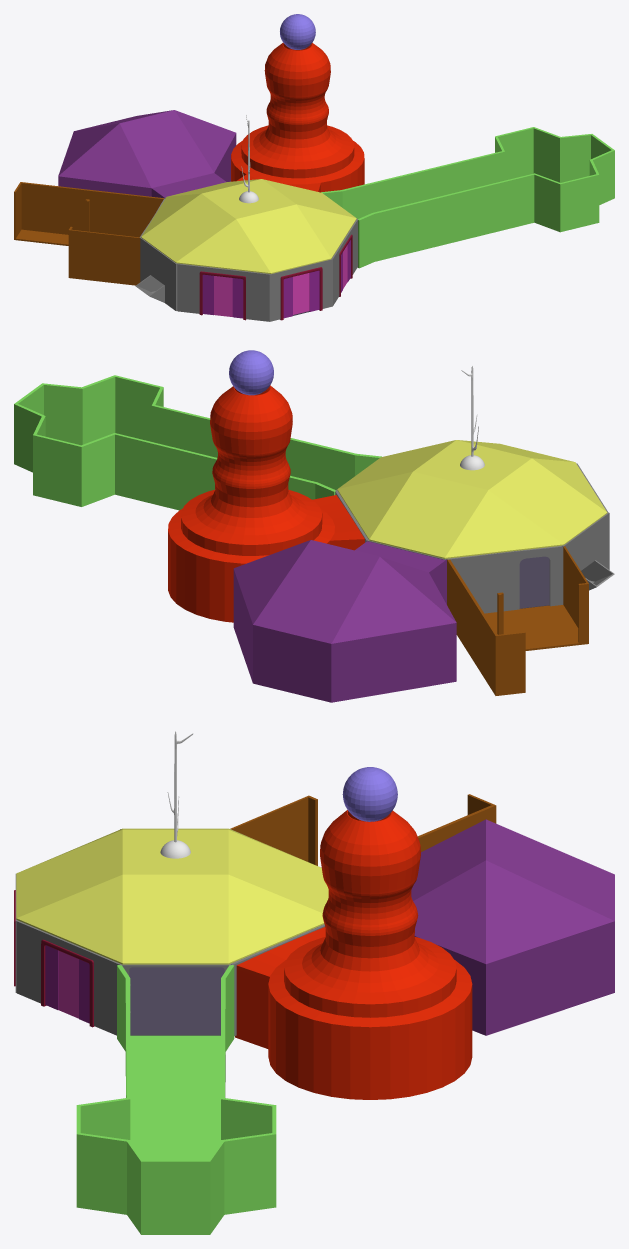
Rendered from hub.fbx.
3 renders of one model, top to bottom at view 1: azimuth 30°, elevation 25°; view 2: azimuth 150°, elevation 25°; view 3: azimuth 270°, elevation 25°, orthographic. The views are drawn at different scales.
Visible parts, largest first — view 1: engineering, ceiling, reactor, command, crafting, north west.002, wall north.003, wall north.001, reactor top, north west.003, door west left outer.005, door west right outer.005 (+3 smaller); view 2: command, engineering, ceiling, reactor, crafting, north west.001, wall north.003, reactor top, floor; view 3: reactor, ceiling, engineering, command, floor, crafting, north west.003, reactor top, frame west.005, door west left outer.006.
Part boxes in pixels (box(x1,y1,x2,y2)): engineering: box(321, 127, 614, 268); ceiling: box(141, 179, 356, 273); reactor: box(231, 43, 364, 192); command: box(58, 110, 236, 198); crafting: box(14, 182, 164, 285); north west.002: box(177, 263, 269, 321); wall north.003: box(135, 237, 177, 310); wall north.001: box(269, 258, 332, 321); reactor top: box(280, 14, 315, 49); north west.003: box(332, 219, 357, 305); door west left outer.005: box(202, 274, 213, 315); door west right outer.005: box(232, 278, 243, 318); command: box(233, 540, 456, 702); engineering: box(14, 375, 381, 510); ceiling: box(337, 440, 607, 558); reactor: box(168, 385, 364, 622); crafting: box(447, 546, 588, 695); north west.001: box(447, 546, 563, 613); wall north.003: box(562, 512, 614, 590); reactor top: box(229, 350, 273, 395); floor: box(491, 550, 549, 608); reactor: box(235, 810, 472, 1099); ceiling: box(16, 828, 328, 964); engineering: box(76, 965, 276, 1234); command: box(411, 819, 614, 1035); floor: box(129, 967, 224, 1035); crafting: box(230, 794, 496, 865); north west.003: box(16, 920, 120, 1035); reactor top: box(342, 767, 397, 821); frame west.005: box(41, 939, 94, 1027); door west left outer.006: box(45, 945, 58, 1009).
Size of the model in its own units: 5460 by 1992 by 3773.
